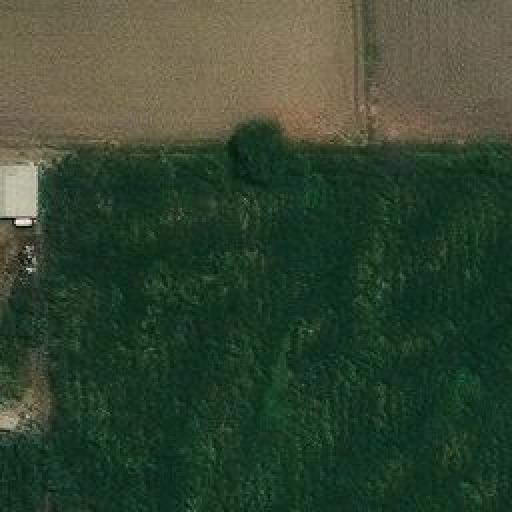manzanas: (0, 163, 40, 229)
